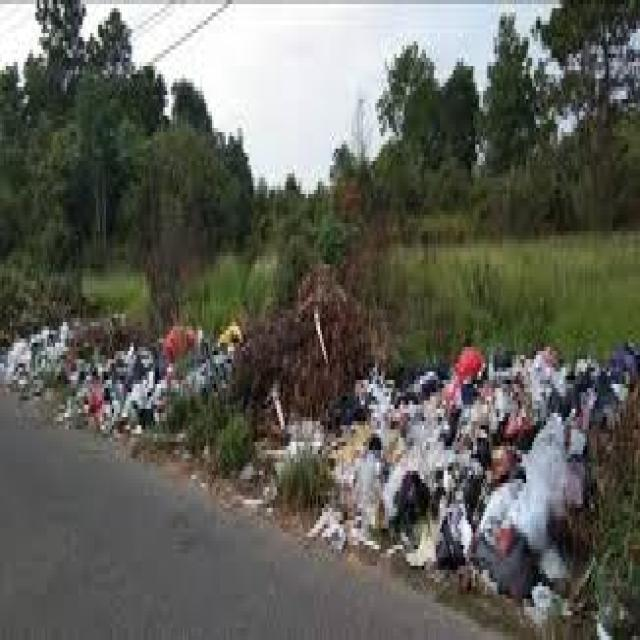trash: (1, 240, 638, 626)
